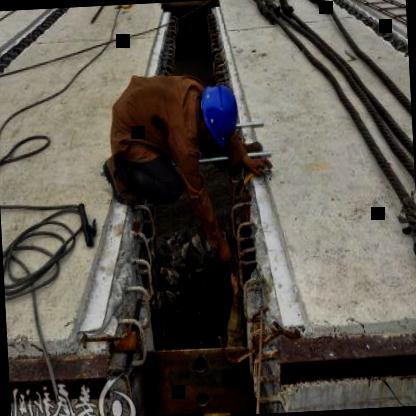helmet: (196, 82, 245, 158)
